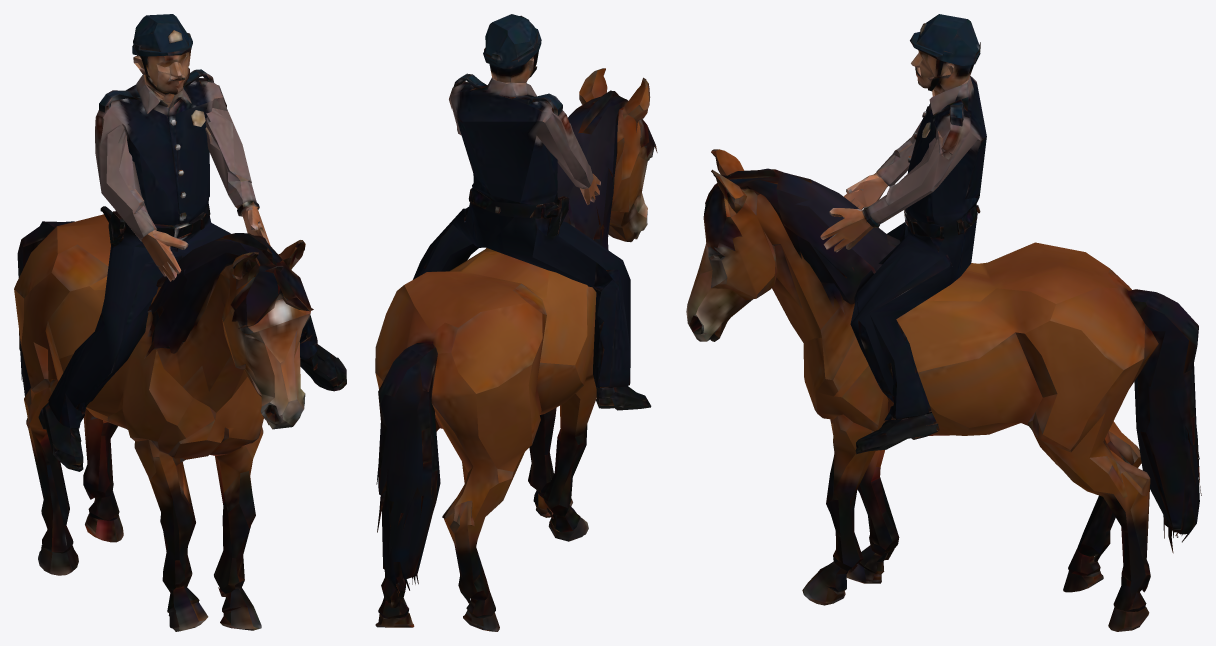
Rendered from polisi_kuda_idle_lod2.glb.
The picture shows the model from 3 angles, left to right: view 1: azimuth 30°, elevation 25°; view 2: azimuth 150°, elevation 25°; view 3: azimuth 270°, elevation 25°; orthographic projection. The views are drawn at different scales.
Parts seen in each view (by area): view 1: horse3dmodel_2; view 2: horse3dmodel_2; view 3: horse3dmodel_2.
Boxes of the visible parts, bbox=[...] form: horse3dmodel_2: bbox=[14, 14, 346, 631]; horse3dmodel_2: bbox=[375, 14, 657, 631]; horse3dmodel_2: bbox=[686, 14, 1201, 631].
Bounding box in the file's own units: 64 × 133 × 104.
Materials: 2 (2 with a texture image).
